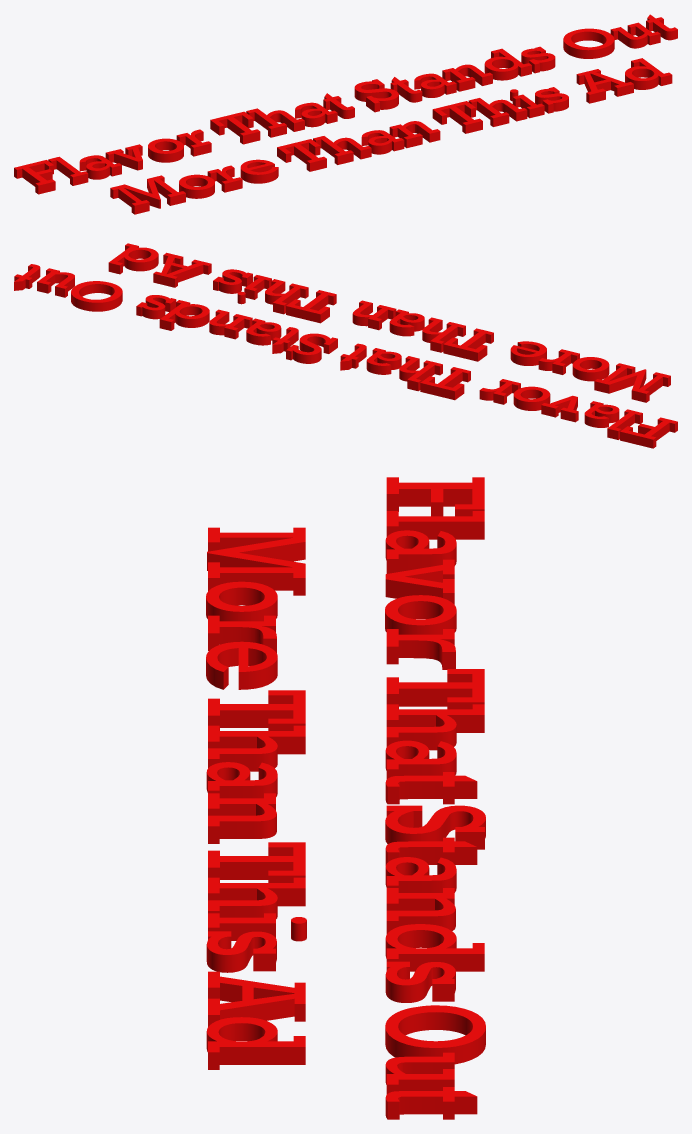
File: AdText.dae
The picture shows the model from 3 angles, top to bottom: view 1: azimuth 30°, elevation 25°; view 2: azimuth 150°, elevation 25°; view 3: azimuth 270°, elevation 25°; orthographic projection. The views are drawn at different scales.
Visible parts, largest first — view 1: Flavor_That_Stan_1 (×34); view 2: Flavor_That_Stan_1 (×34); view 3: Flavor_That_Stan_1 (×34).
Boxes of the visible parts, x1,y1,x2,y2 form: Flavor_That_Stan_1 (×34): (14, 14, 677, 214); Flavor_That_Stan_1 (×34): (14, 243, 677, 448); Flavor_That_Stan_1 (×34): (206, 477, 485, 1119).
Size of the model in its own units: 148 by 28.11 by 1.97.
